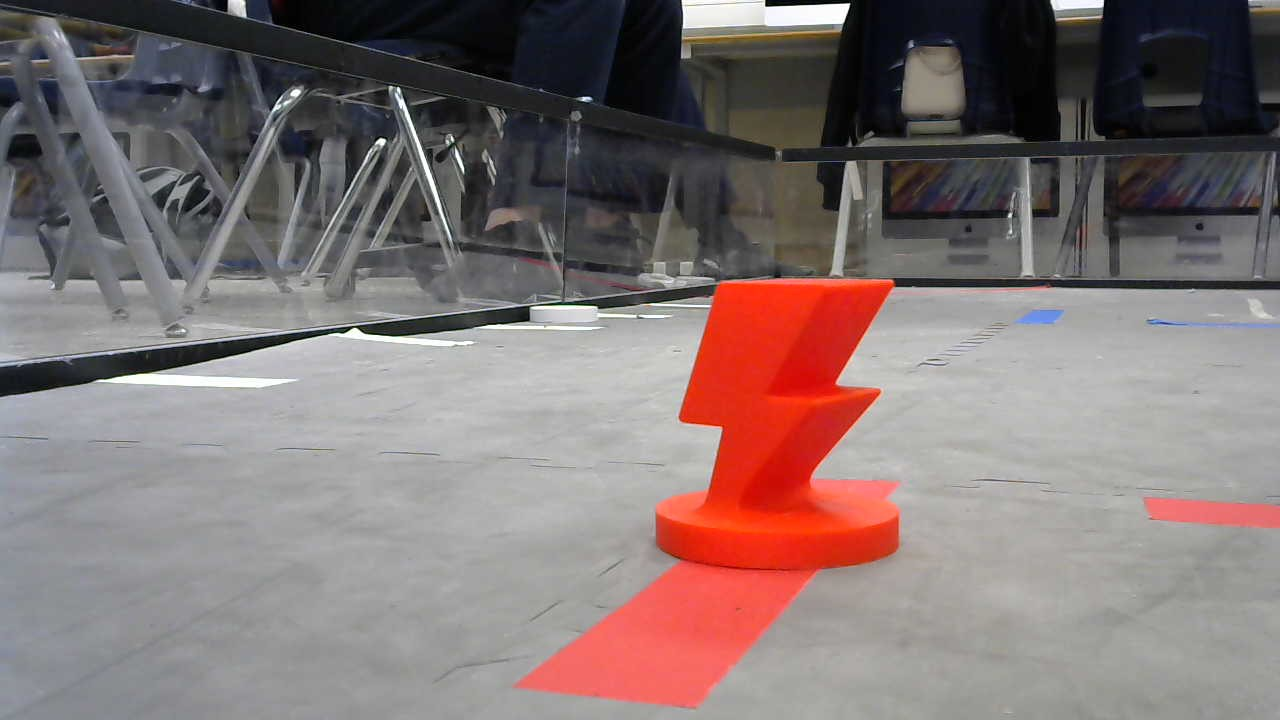redobject: (648, 272, 905, 574)
